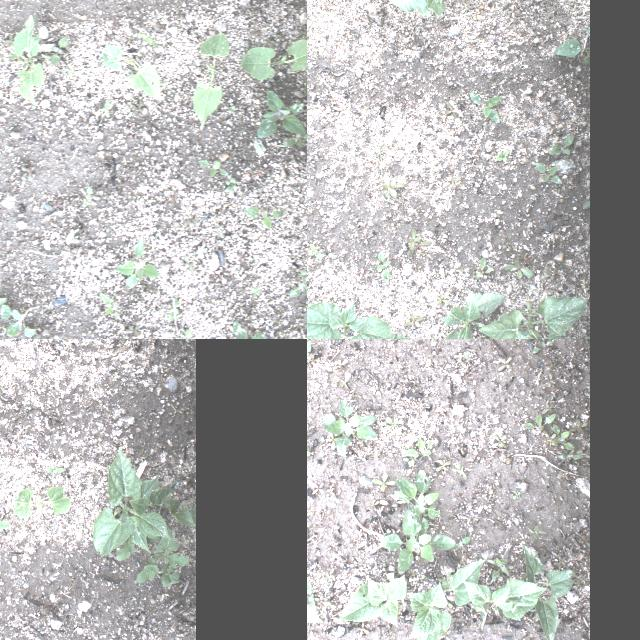crop: (93, 447, 195, 589), (396, 548, 496, 640), (514, 543, 573, 640), (473, 295, 587, 339), (307, 294, 414, 339), (334, 571, 414, 627), (461, 576, 545, 626), (192, 32, 230, 128), (436, 289, 506, 339), (102, 44, 164, 100), (12, 14, 42, 106), (239, 39, 307, 79), (10, 484, 70, 520), (329, 0, 428, 15), (429, 0, 475, 17), (0, 508, 11, 546), (136, 32, 158, 48)
weed: (371, 502, 457, 578), (388, 464, 447, 526), (324, 392, 382, 453), (522, 412, 578, 462), (256, 89, 306, 137), (116, 236, 158, 286), (398, 432, 440, 466), (0, 303, 38, 336), (470, 89, 504, 121), (369, 468, 403, 494), (366, 124, 384, 172), (244, 206, 282, 228), (550, 36, 590, 56), (44, 453, 70, 483), (403, 229, 432, 255), (382, 171, 406, 201), (486, 555, 510, 585), (98, 292, 124, 318), (535, 160, 563, 184), (545, 135, 575, 157), (501, 258, 533, 278), (382, 414, 410, 436), (233, 320, 265, 339), (471, 255, 493, 281), (524, 339, 555, 356), (198, 160, 228, 177), (283, 126, 307, 146), (50, 36, 66, 64), (372, 248, 392, 270), (495, 354, 515, 374), (402, 312, 426, 328), (82, 185, 98, 207), (96, 97, 112, 119), (167, 296, 179, 322), (307, 242, 324, 259), (289, 282, 307, 298), (433, 290, 451, 306), (183, 252, 195, 274), (446, 172, 462, 188), (493, 147, 509, 163), (61, 245, 78, 259), (180, 326, 198, 339), (125, 322, 141, 336), (20, 165, 34, 181), (130, 100, 144, 116), (445, 102, 457, 120), (541, 268, 559, 280), (30, 327, 47, 339), (224, 176, 236, 192), (332, 104, 344, 120), (430, 162, 442, 176), (360, 230, 370, 246), (308, 482, 324, 492), (380, 270, 392, 282), (186, 214, 197, 226), (173, 7, 184, 19), (227, 150, 237, 162), (40, 52, 52, 62), (4, 35, 16, 45), (501, 242, 513, 252), (58, 68, 72, 76), (518, 248, 532, 256), (580, 196, 588, 210), (250, 286, 260, 296), (184, 222, 194, 232), (299, 269, 307, 281), (10, 50, 22, 58), (22, 404, 34, 412), (331, 162, 342, 170), (300, 28, 307, 40), (0, 295, 6, 306), (412, 264, 420, 272), (228, 105, 235, 114), (582, 55, 588, 65), (70, 237, 78, 243), (19, 180, 25, 188), (4, 144, 10, 152), (584, 25, 588, 35), (438, 55, 442, 65), (162, 77, 166, 86), (94, 65, 100, 71), (96, 50, 102, 56), (267, 39, 275, 43), (582, 333, 587, 339), (168, 88, 174, 92), (0, 88, 2, 97), (157, 185, 161, 189), (131, 97, 135, 101)
